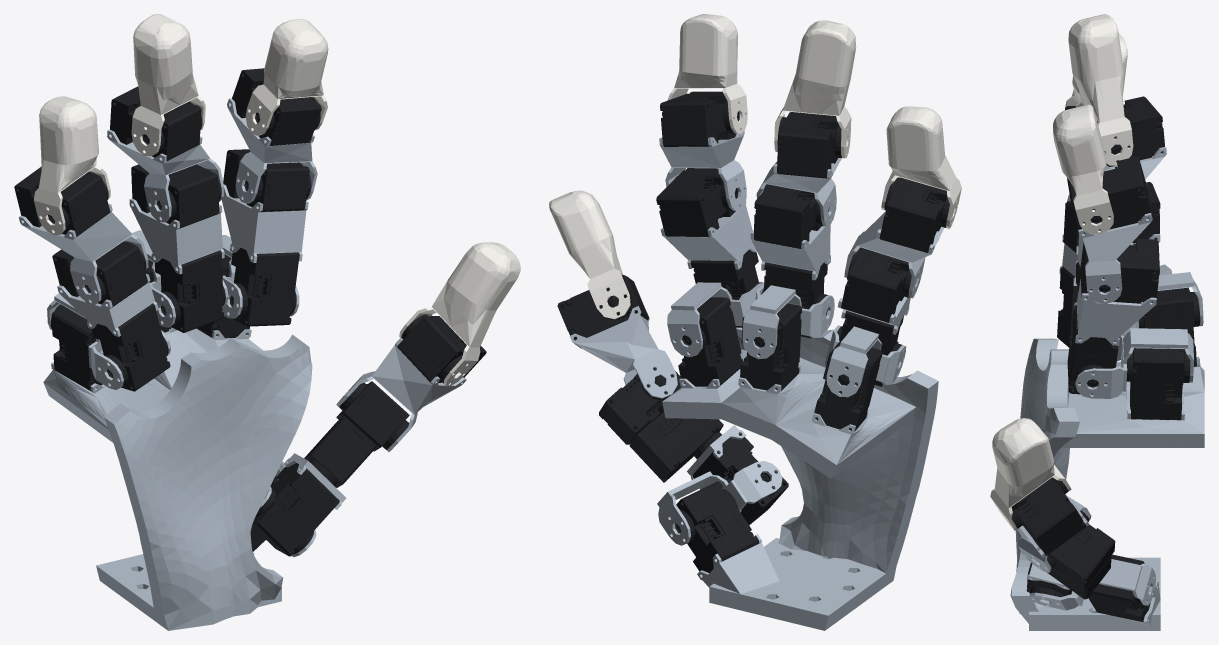
File: pact_hand.glb
3 views of the same model, side by side, from view 1: azimuth 30°, elevation 25°; view 2: azimuth 150°, elevation 25°; view 3: azimuth 270°, elevation 25° (orthographic).
Visible parts, largest first — view 1: printed, servos, tips; view 2: printed, servos, tips; view 3: printed, servos, tips.
Part boxes in pixels (box(x1,y1,x2,y2)): printed: box(18, 98, 466, 630); servos: box(14, 68, 486, 556); tips: box(33, 14, 520, 386); printed: box(569, 131, 944, 630); servos: box(557, 91, 949, 572); tips: box(549, 14, 961, 319); printed: box(1010, 147, 1204, 630); servos: box(1011, 96, 1200, 622); tips: box(990, 14, 1133, 530).
Size of the model in its own units: 0.2306 by 0.2865 by 0.0976.
